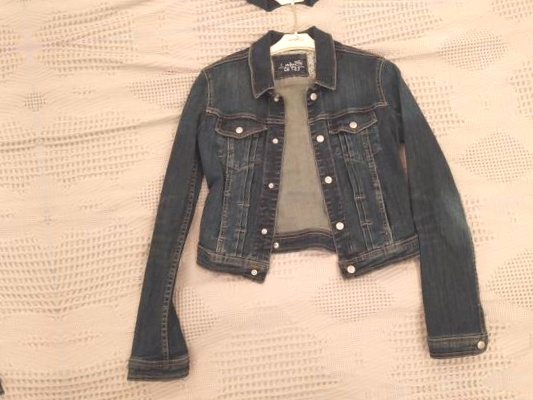Blazer: (83, 28, 496, 400), (0, 81, 17, 400), (40, 0, 453, 13), (123, 390, 533, 400)
